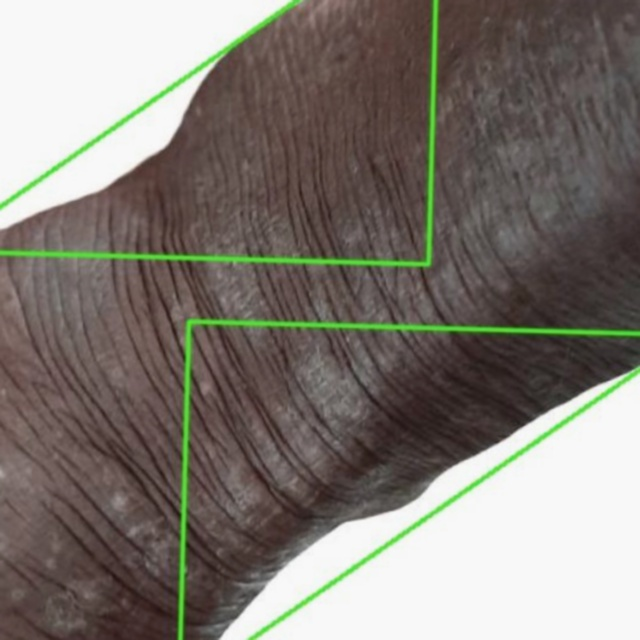Contact Dermatitis: (0, 0, 639, 639), (180, 321, 639, 639), (0, 0, 435, 264)
